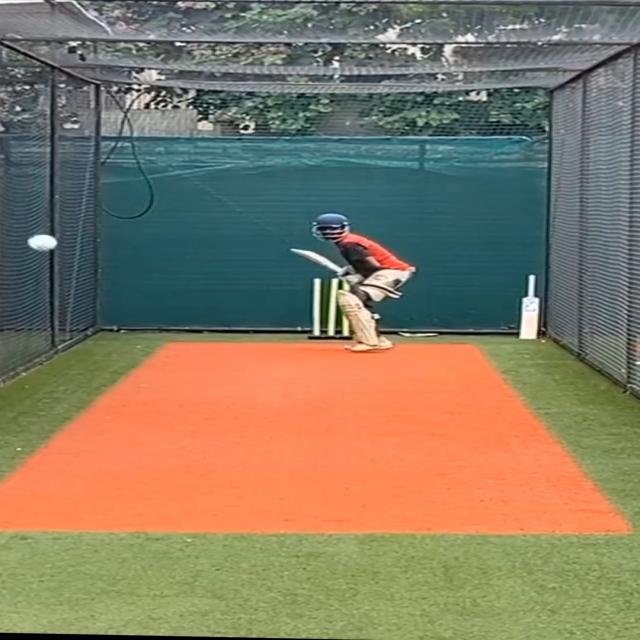ball: (24, 231, 63, 254)
stump: (306, 274, 349, 340)
